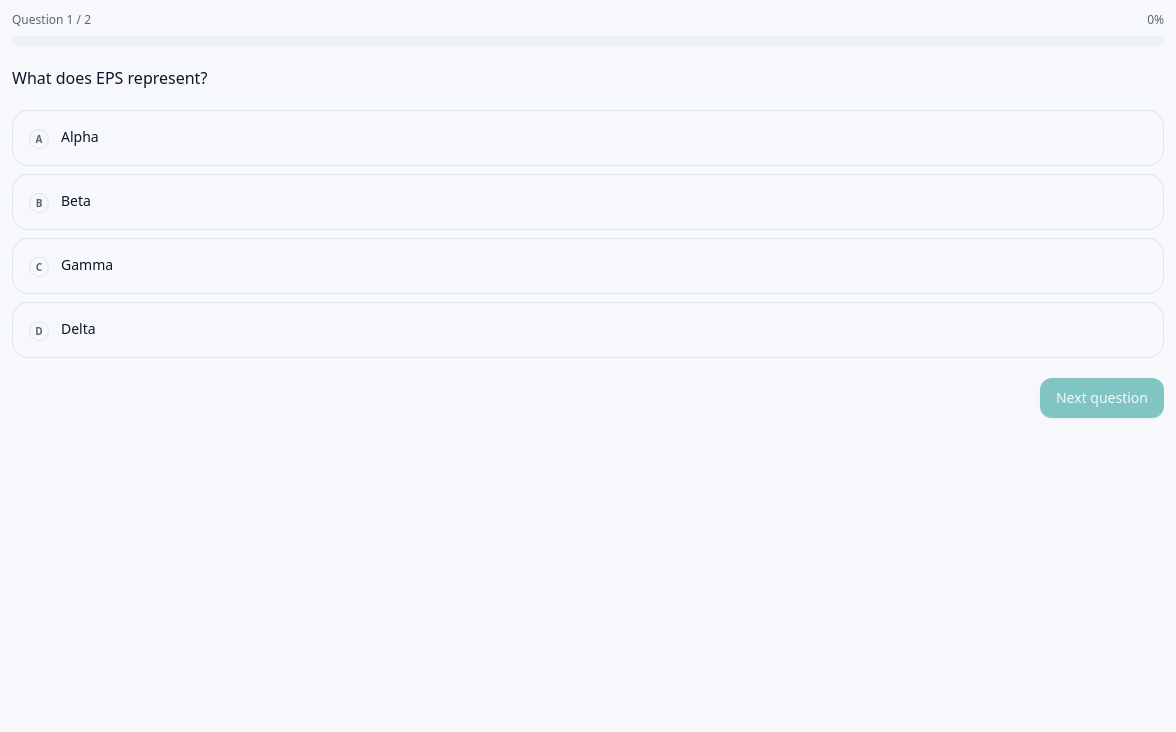
Test: Quiz › reveals an explanation after answering
The width and height of the screenshot is (1176, 732).
Click the button "B Beta". click: (39, 203)
box: x1=12 y1=174 x2=1164 y2=230
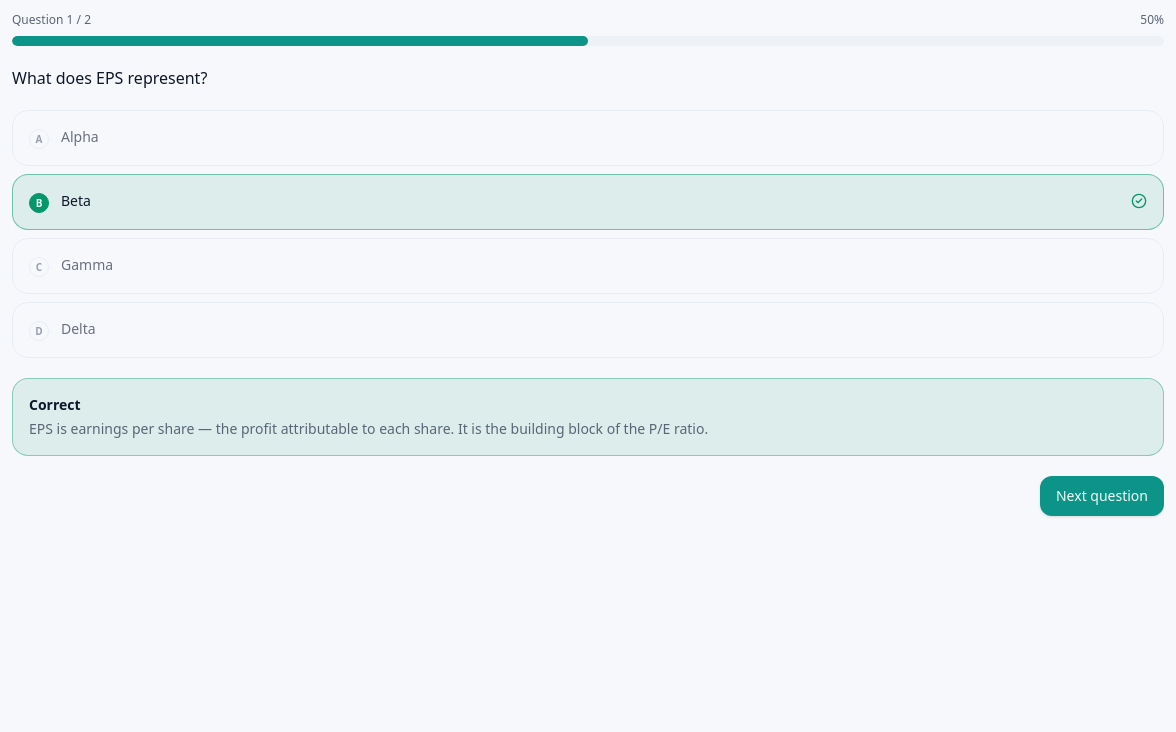
Expected: the text "Correct" is shown, x1=29 y1=395 x2=81 y2=414
Expected: the text "building block of the P/E ratio" is shown, x1=29 y1=419 x2=708 y2=438
